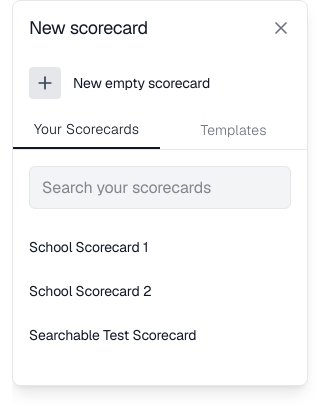
Scenario: ScorecardPickerDialog Component › Search Functionality › should filter scorecards based on search query
Expected: the text "School Scorecard 1" is shown, top-left (29, 237), bottom-right (148, 257)
Expected: the text "School Scorecard 2" is shown, top-left (29, 281), bottom-right (151, 301)
Type in search input
Type "search" into the field with placeholder "Search your scorecards" at coordinates (160, 187), box top-left (29, 166), bottom-right (291, 209)
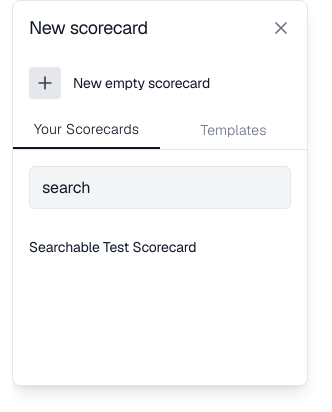
Expected: the text "Searchable Test Scorecard" is shown, top-left (29, 237), bottom-right (196, 257)
Result: the text "School Scorecard 1" is gone
Result: the text "School Scorecard 2" is gone
